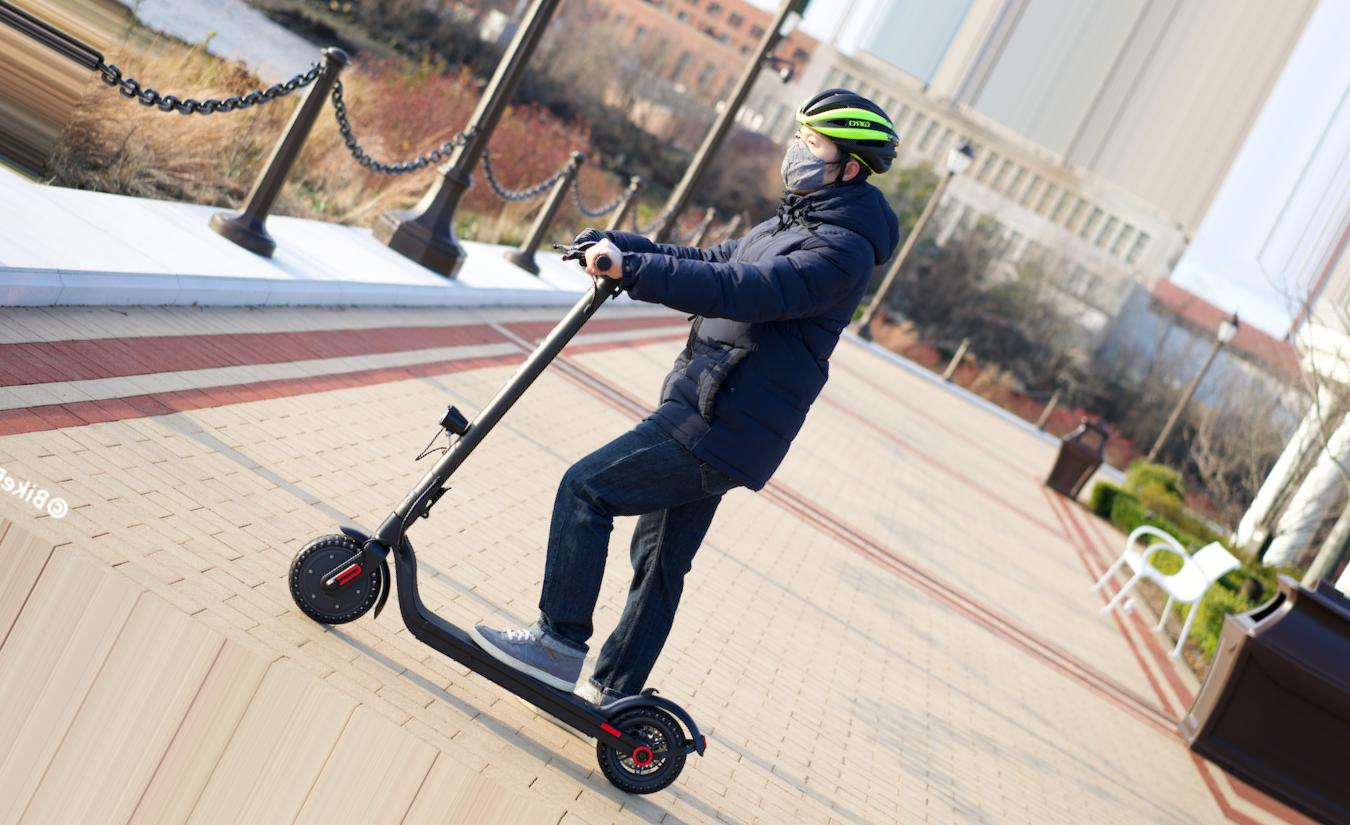scooter: (285, 230, 709, 796)
with helmet: (779, 88, 901, 200)
